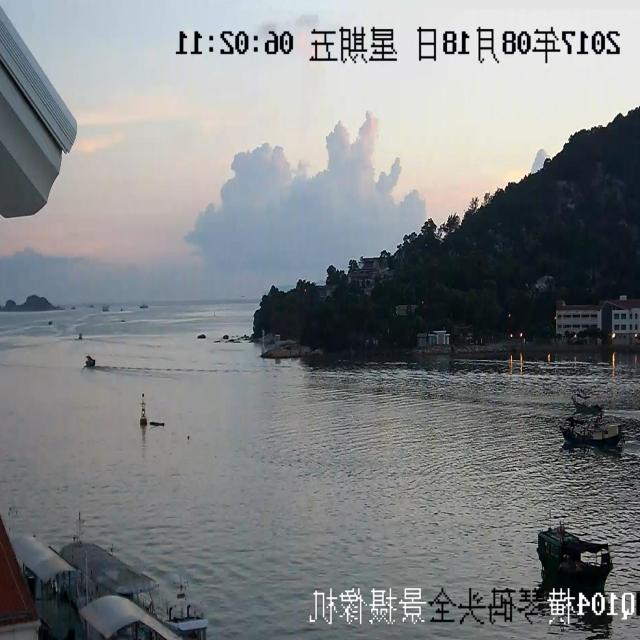buoy: (129, 396, 153, 438)
fishing boat: (538, 503, 622, 596), (548, 368, 622, 463), (72, 347, 100, 370)
